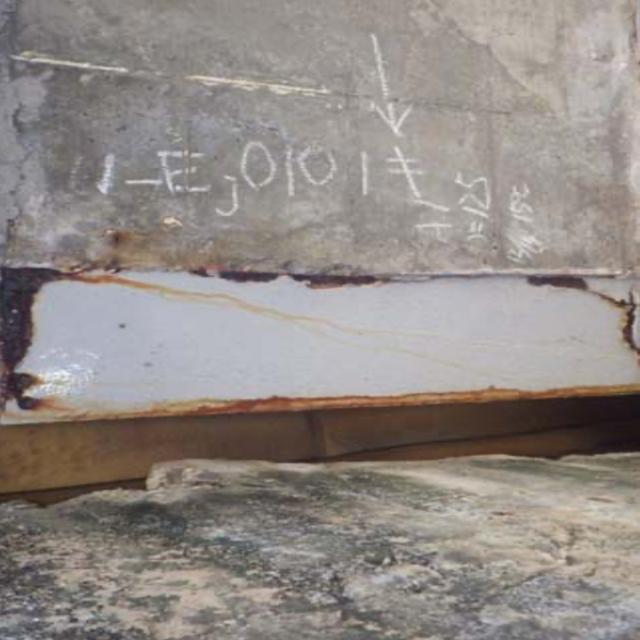corrosion: (8, 218, 640, 500)
